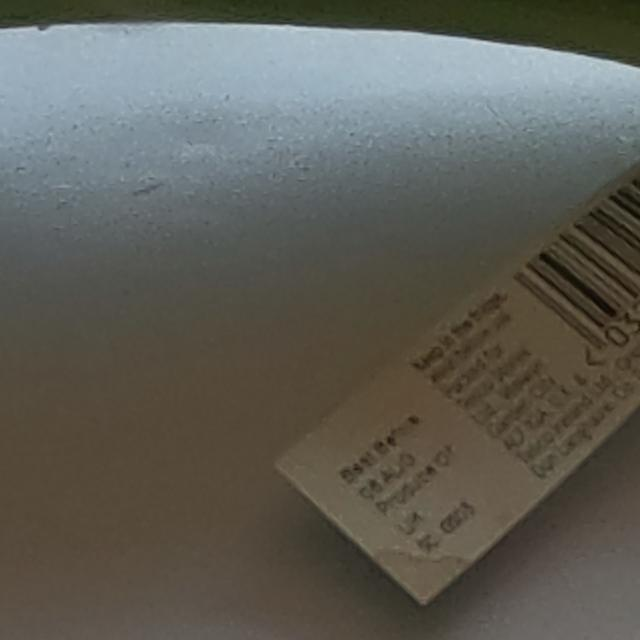green_onion: (275, 160, 640, 612)
